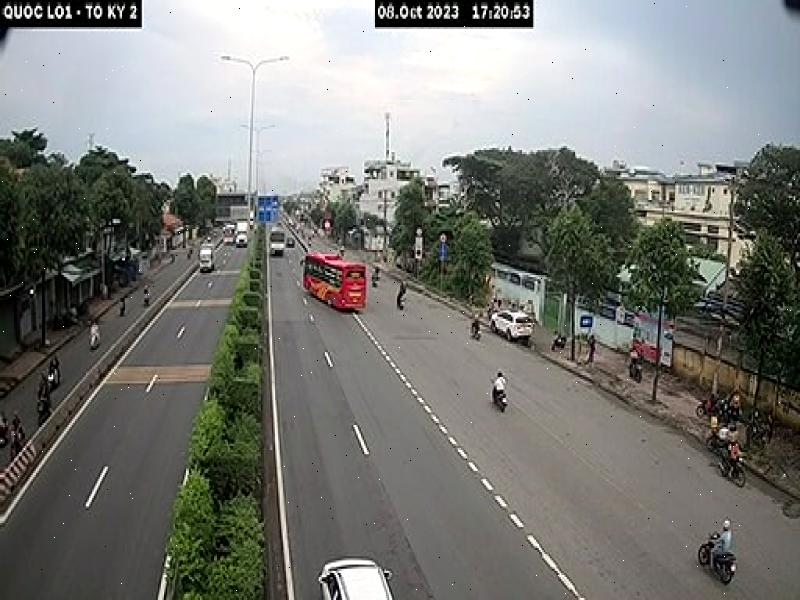bus: (298, 246, 372, 323)
car: (309, 548, 405, 600), (490, 303, 532, 353)
